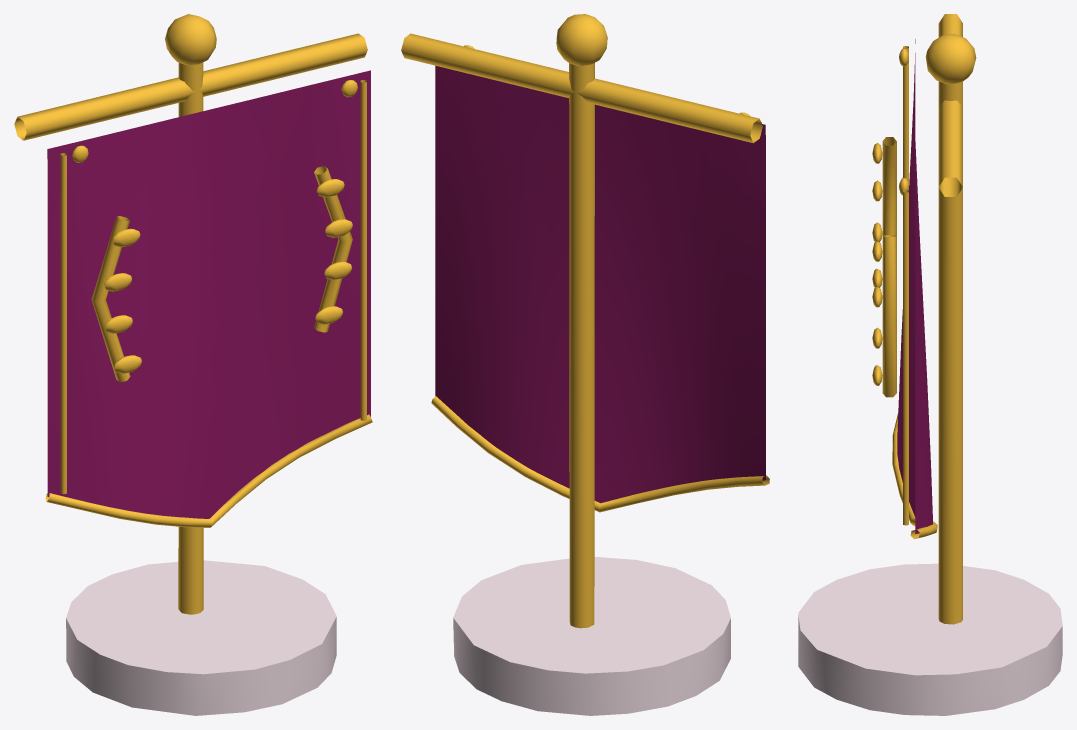
The model's file is prime.banner.arena.lod1.glb.
3 views of the same model, side by side, from view 1: azimuth 30°, elevation 25°; view 2: azimuth 150°, elevation 25°; view 3: azimuth 270°, elevation 25° (orthographic). The views are drawn at different scales.
Visible parts, largest first — view 1: banner_cloth, banner_foot, crossbar, banner_hem, banner_pole, banner_edge_braid.001, banner_edge_braid, banner_finial, laurel, laurel.001; view 2: banner_cloth, banner_foot, banner_pole, crossbar, banner_hem, banner_finial; view 3: banner_foot, banner_pole, banner_cloth, crossbar, laurel.001, banner_finial, banner_edge_braid.001, laurel, banner_hem, banner_edge_braid.
Boxes of the visible parts, x1=… form: banner_cloth: x1=47, y1=70, x2=370, y2=518; banner_foot: x1=66, y1=560, x2=336, y2=715; crossbar: x1=14, y1=33, x2=367, y2=140; banner_hem: x1=45, y1=414, x2=372, y2=527; banner_pole: x1=178, y1=62, x2=203, y2=614; banner_edge_braid.001: x1=360, y1=80, x2=366, y2=420; banner_edge_braid: x1=60, y1=153, x2=66, y2=493; banner_finial: x1=165, y1=14, x2=216, y2=65; laurel: x1=91, y1=216, x2=130, y2=382; laurel.001: x1=314, y1=166, x2=352, y2=332; banner_cloth: x1=435, y1=65, x2=765, y2=503; banner_foot: x1=453, y1=557, x2=730, y2=715; banner_pole: x1=569, y1=63, x2=594, y2=628; crossbar: x1=401, y1=33, x2=762, y2=143; banner_hem: x1=431, y1=396, x2=769, y2=512; banner_finial: x1=556, y1=14, x2=607, y2=66; banner_foot: x1=798, y1=563, x2=1062, y2=715; banner_pole: x1=938, y1=81, x2=962, y2=624; banner_cloth: x1=897, y1=39, x2=932, y2=534; crossbar: x1=938, y1=14, x2=962, y2=196; laurel.001: x1=882, y1=235, x2=896, y2=397; banner_finial: x1=925, y1=34, x2=976, y2=84; banner_edge_braid.001: x1=903, y1=190, x2=908, y2=525; laurel: x1=882, y1=137, x2=896, y2=235; banner_hem: x1=892, y1=412, x2=937, y2=539; banner_edge_braid: x1=903, y1=46, x2=908, y2=190.
Bounding box in the file's own units: 0.4222 × 0.75 × 0.2882.
